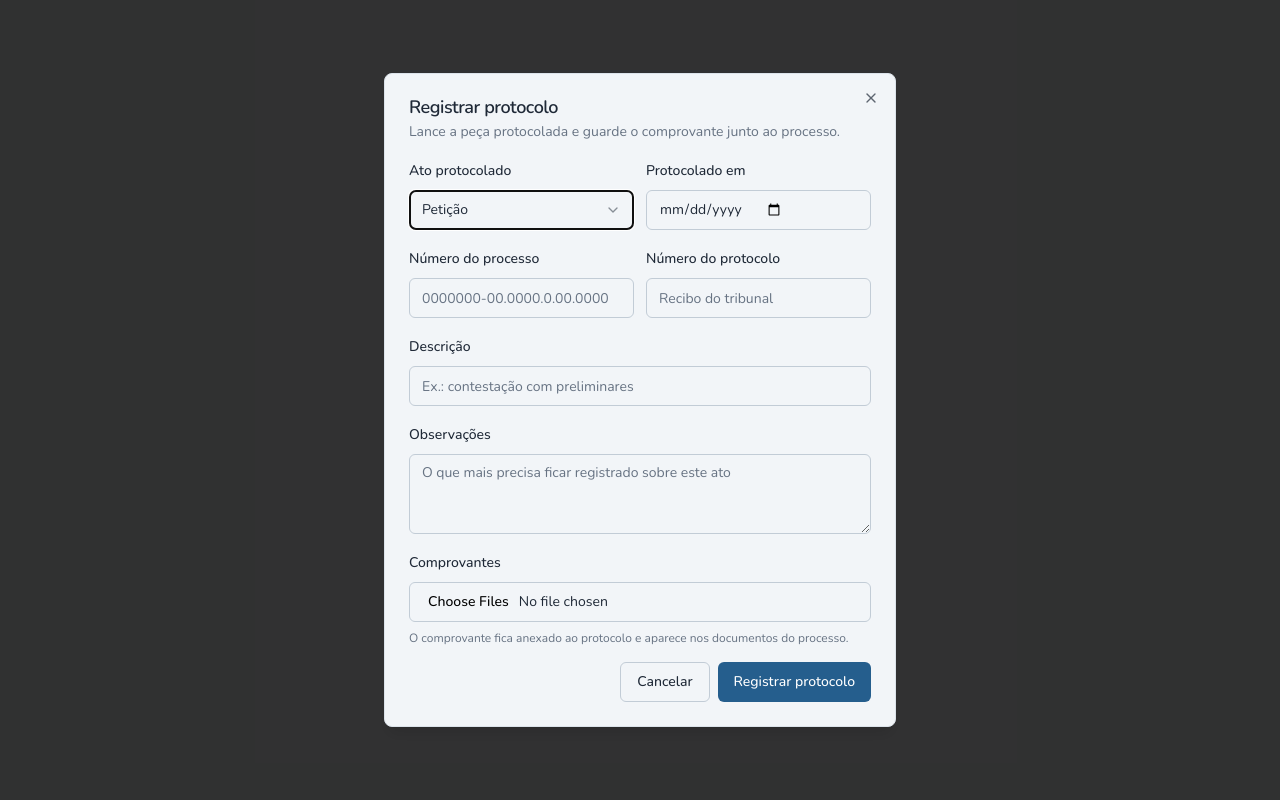
Test: ProtocoloDialog › mostra a falha do servidor e mantém o diálogo aberto
Earlier steps of the test are not shown.
Type "2026-08-25" into the date field labelled "Protocolado em" at coordinates (758, 210), box [646,190,871,230]
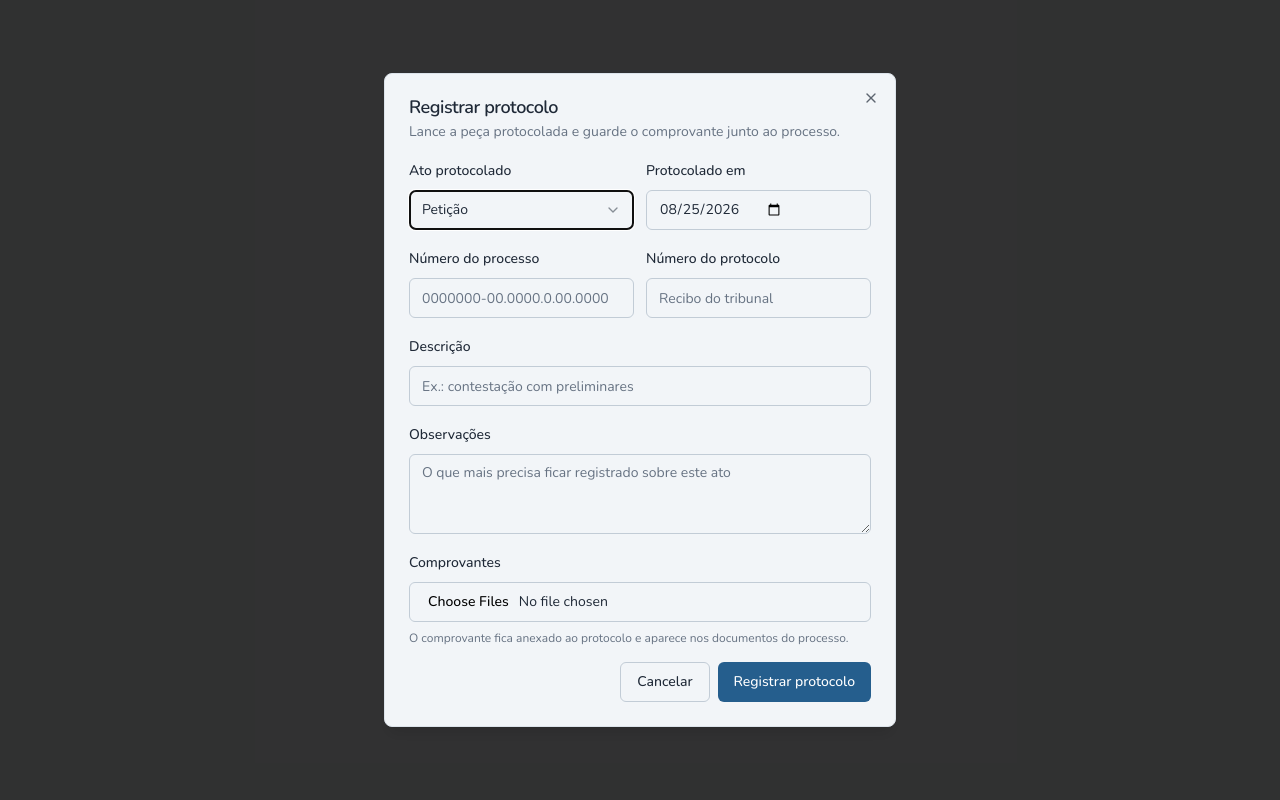
Type "0000123-45.2026.8.26.0100" into the field labelled "Número do processo" at coordinates (522, 298), box [409,278,634,318]
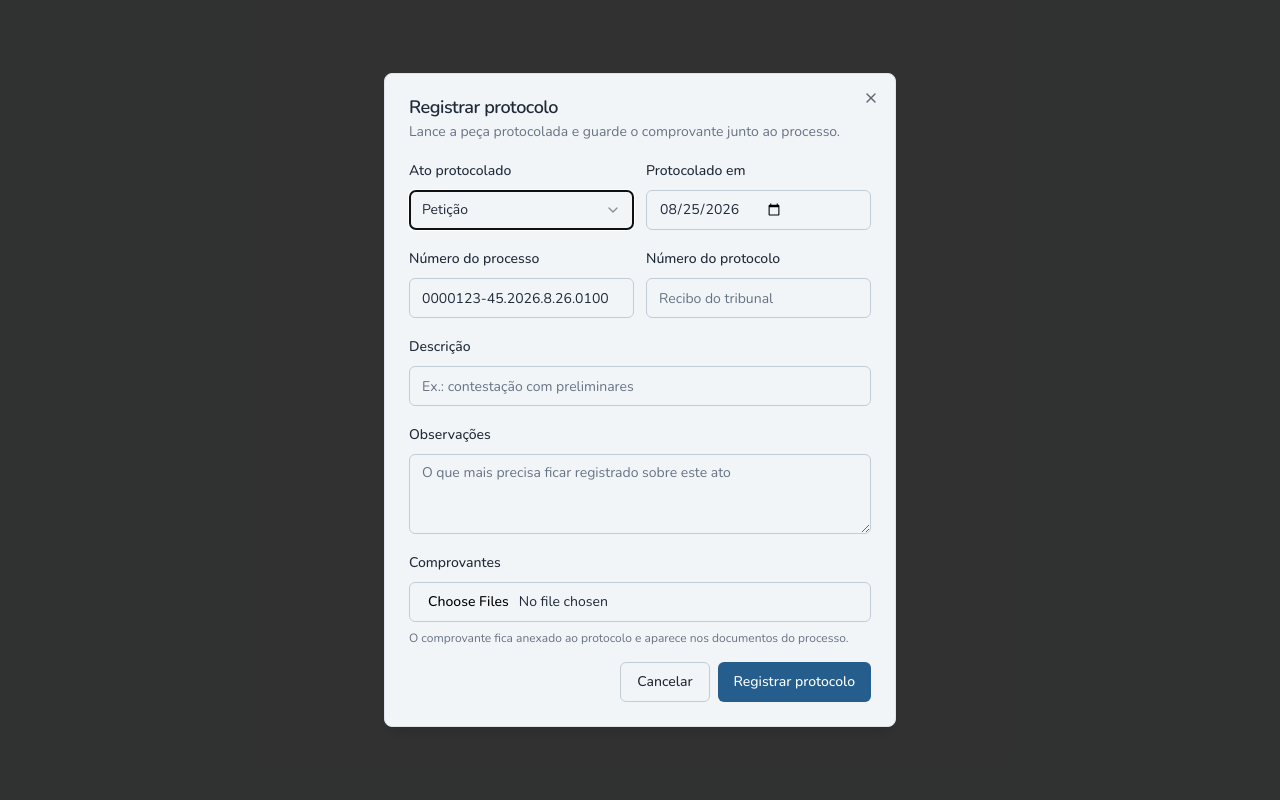
Click the button "Registrar protocolo" at coordinates (794, 682), box [718,662,871,702]
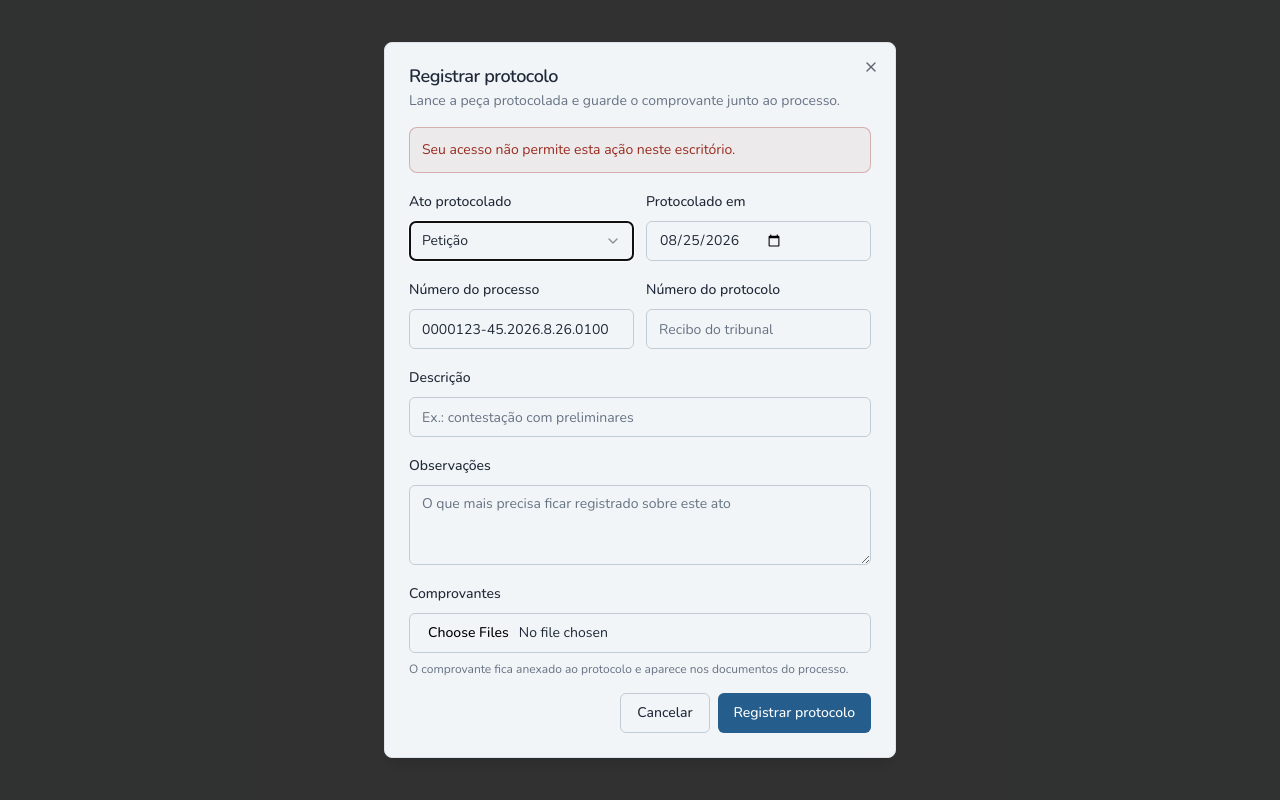
Result: the message shows "não permite esta ação" at [422,140,735,159]
